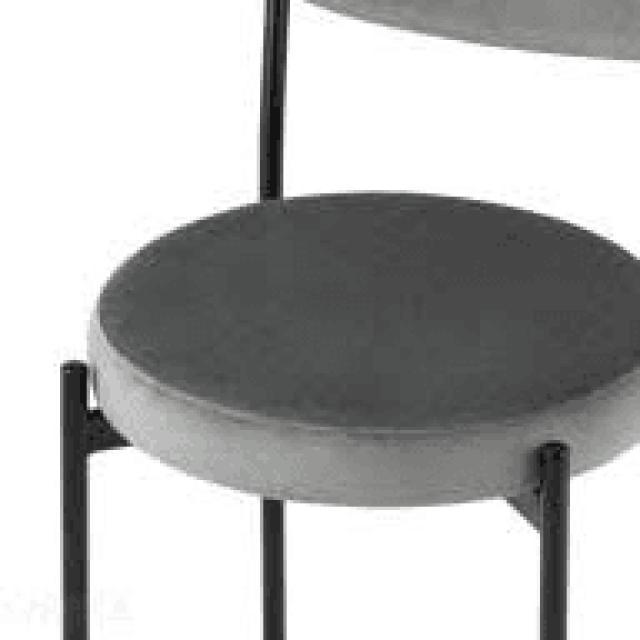chair: (50, 0, 640, 640), (87, 0, 640, 511)
